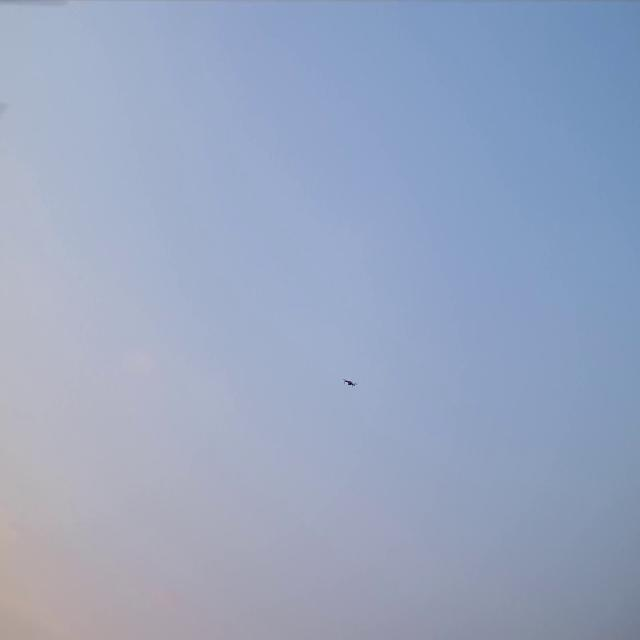UAV: (344, 380, 354, 386)
